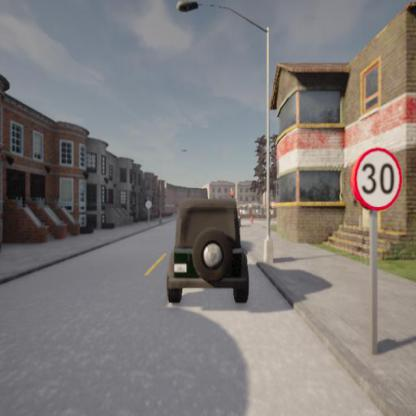traffic_sign_30: (351, 146, 402, 212)
vehicle: (166, 195, 250, 305)
